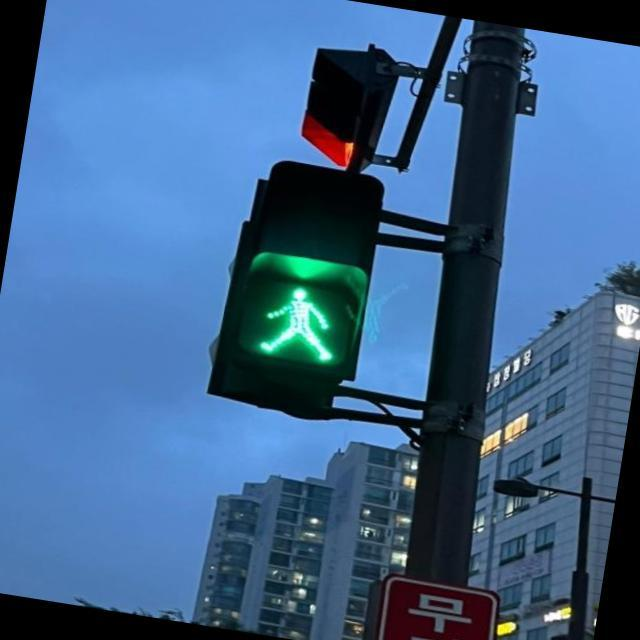greenlight: (207, 162, 390, 414)
